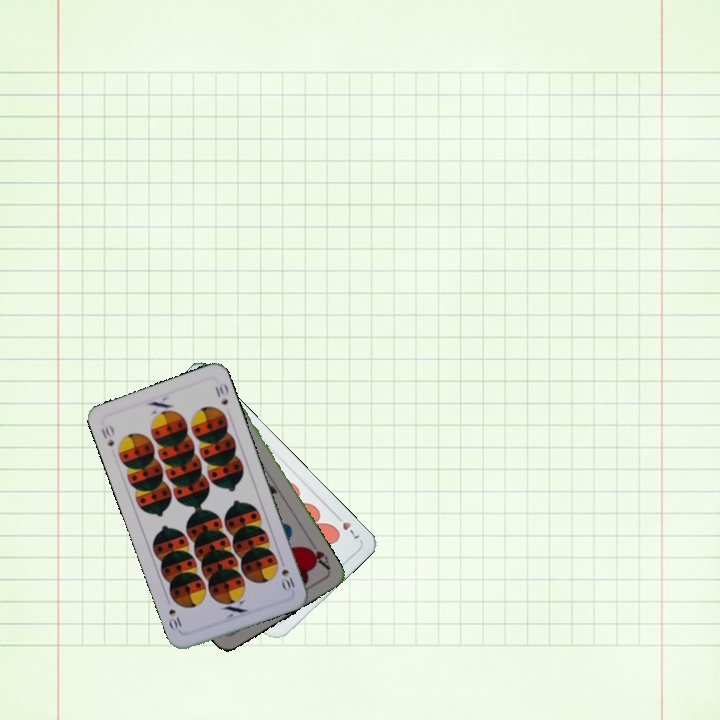H7: (331, 510, 362, 544)
HA: (302, 536, 333, 573)
S10: (276, 555, 297, 594), (97, 420, 117, 449)
